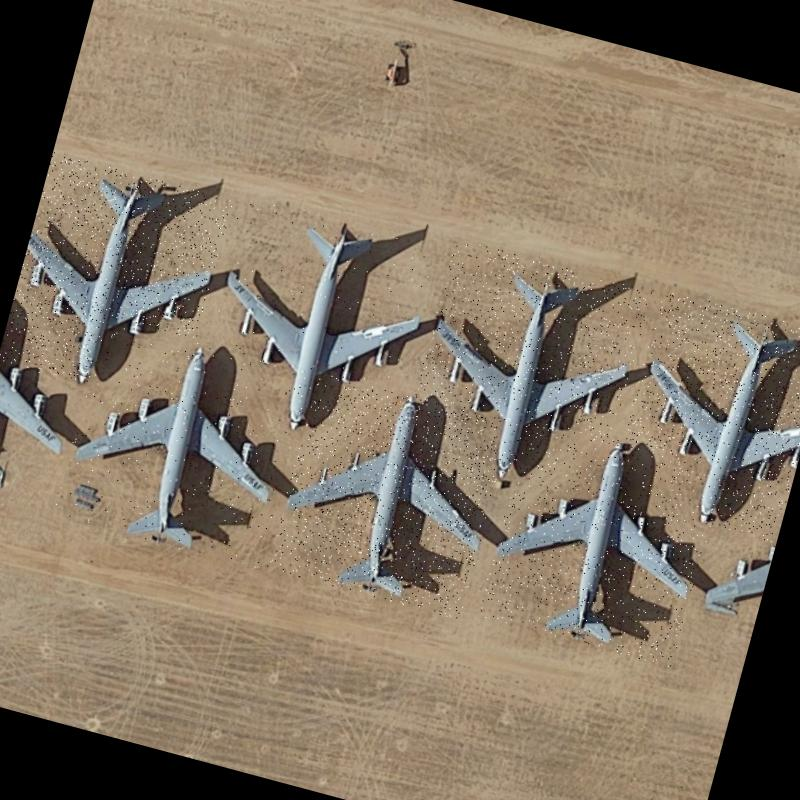A14: (186, 196, 444, 455), (52, 316, 312, 570), (400, 238, 652, 499), (477, 416, 725, 668), (266, 370, 512, 620), (0, 151, 233, 409), (607, 288, 800, 543)
